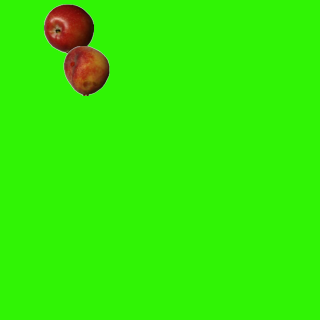Apple Braeburn: (43, 3, 93, 53)
Peach: (61, 45, 111, 95)
